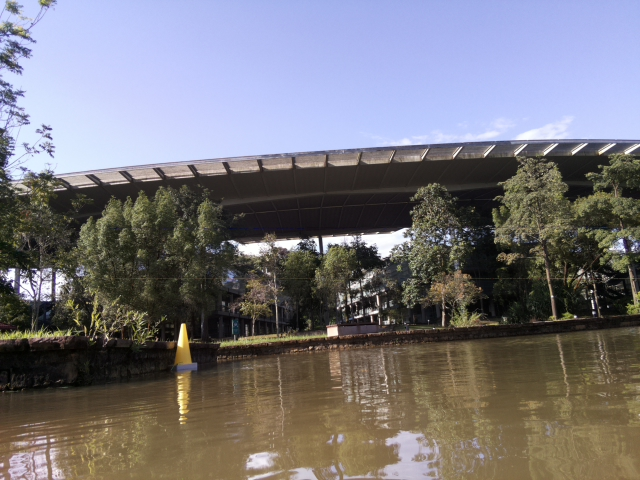checkpoint: (171, 322, 199, 371)
